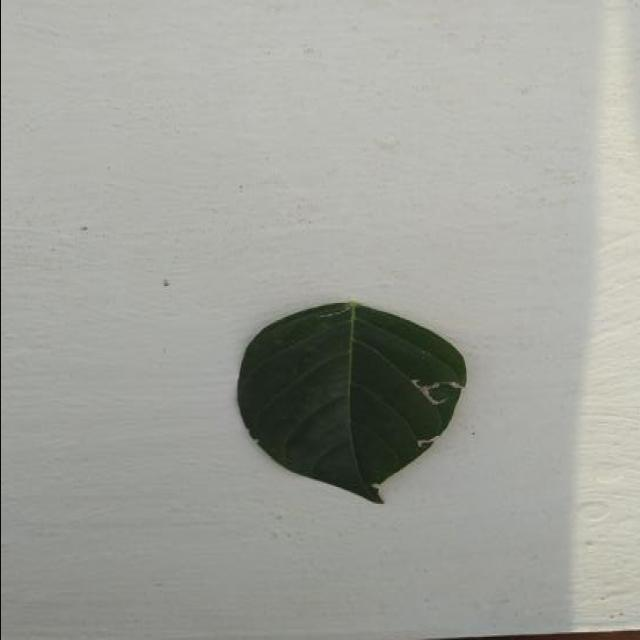leaf: (236, 299, 467, 504)
